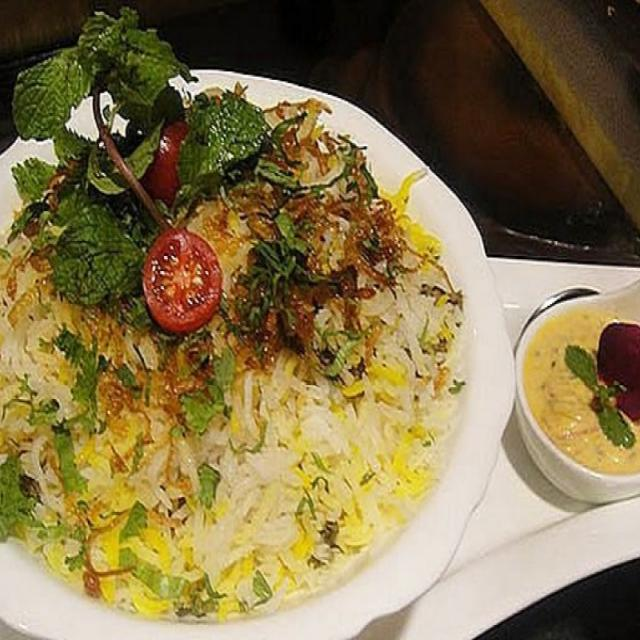Biryani: (0, 83, 456, 600)
